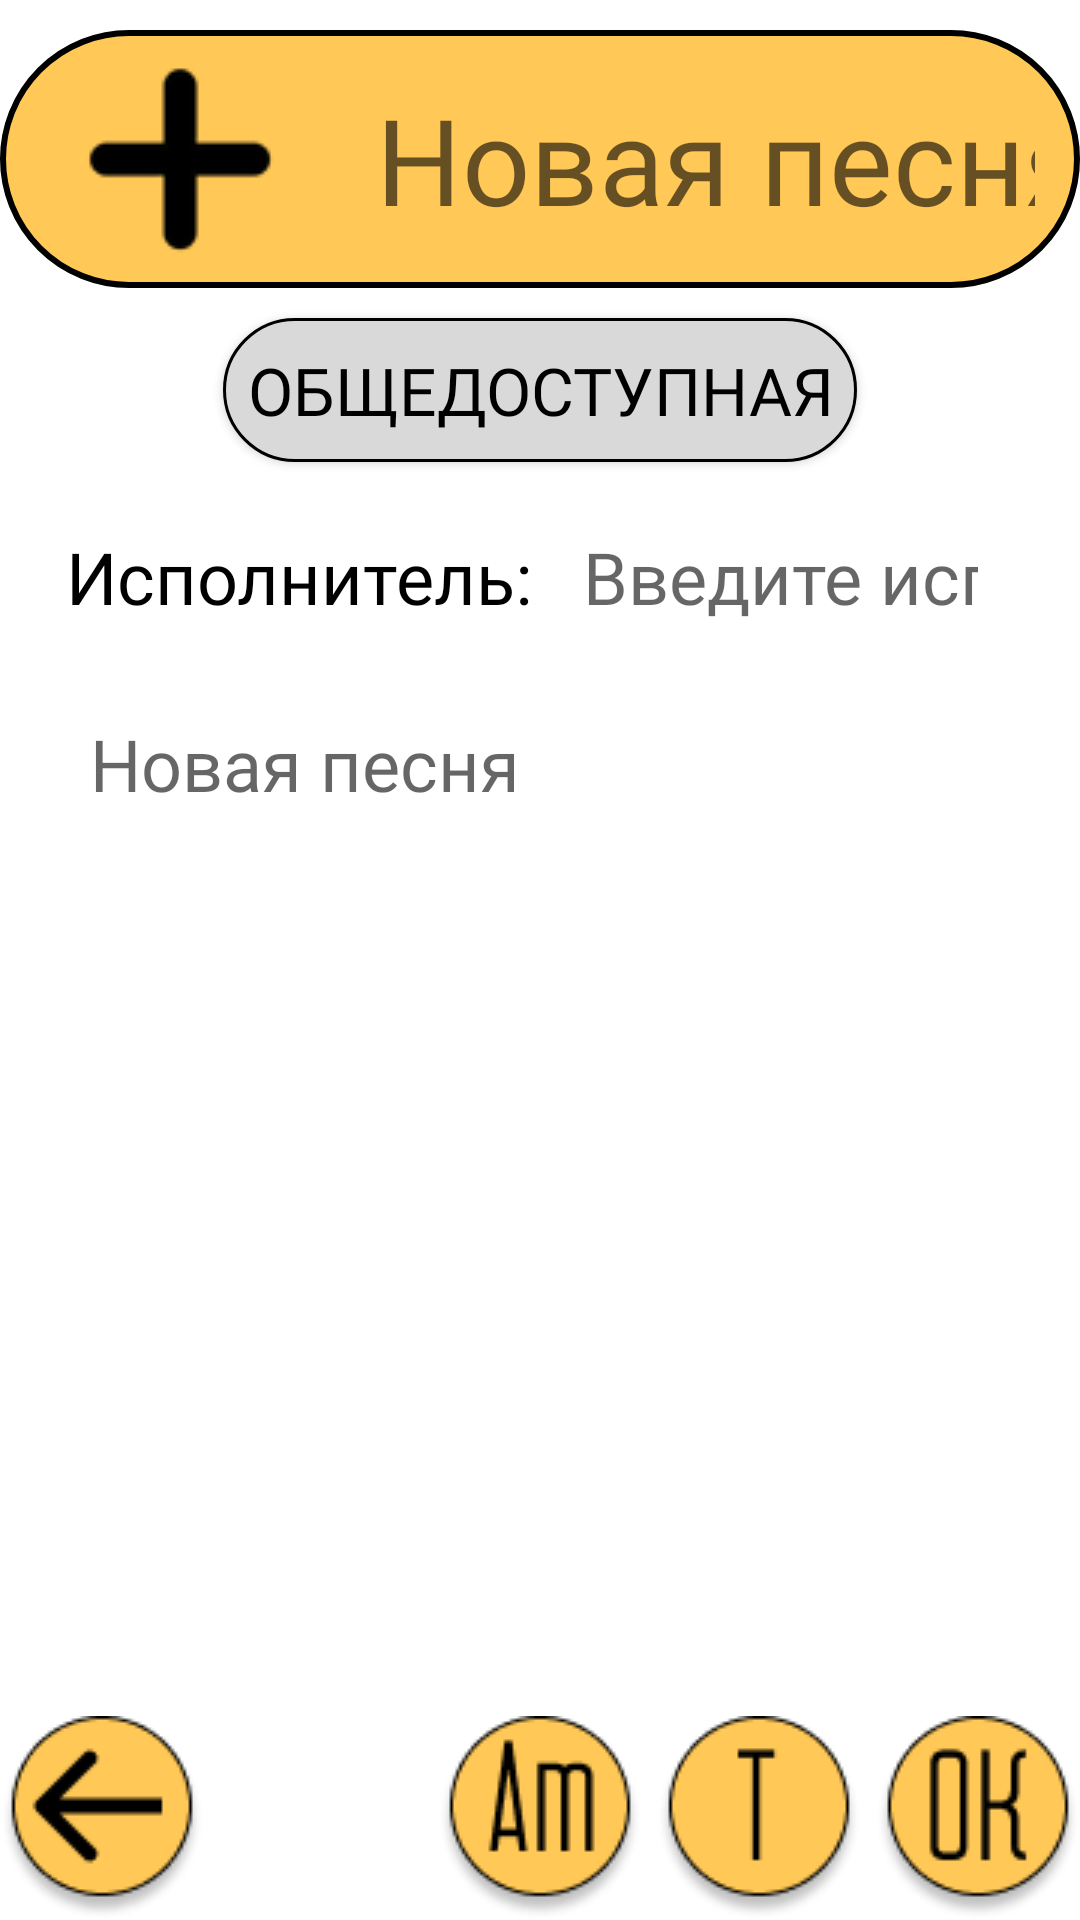

Icon bounding boxes for this 1080px×1920px phone screenshot, format (x1, y1, x2, y2):
back: (11, 1716, 193, 1910)
plus: (89, 68, 271, 251)
